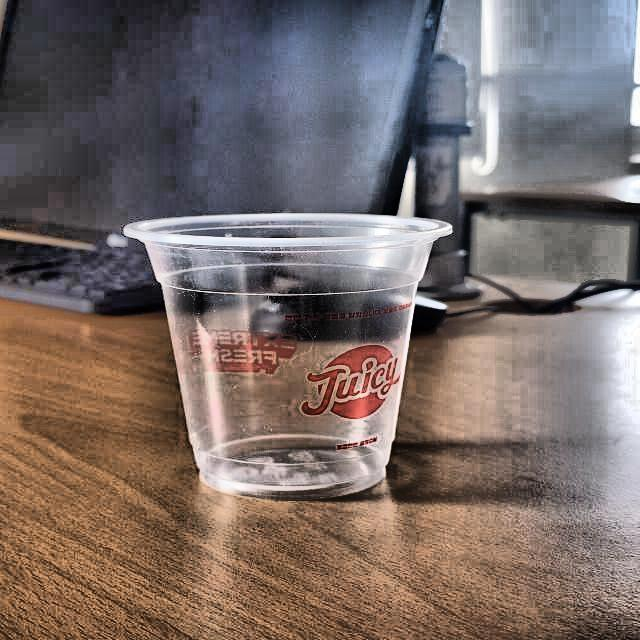plastic cup: (123, 212, 454, 500)
